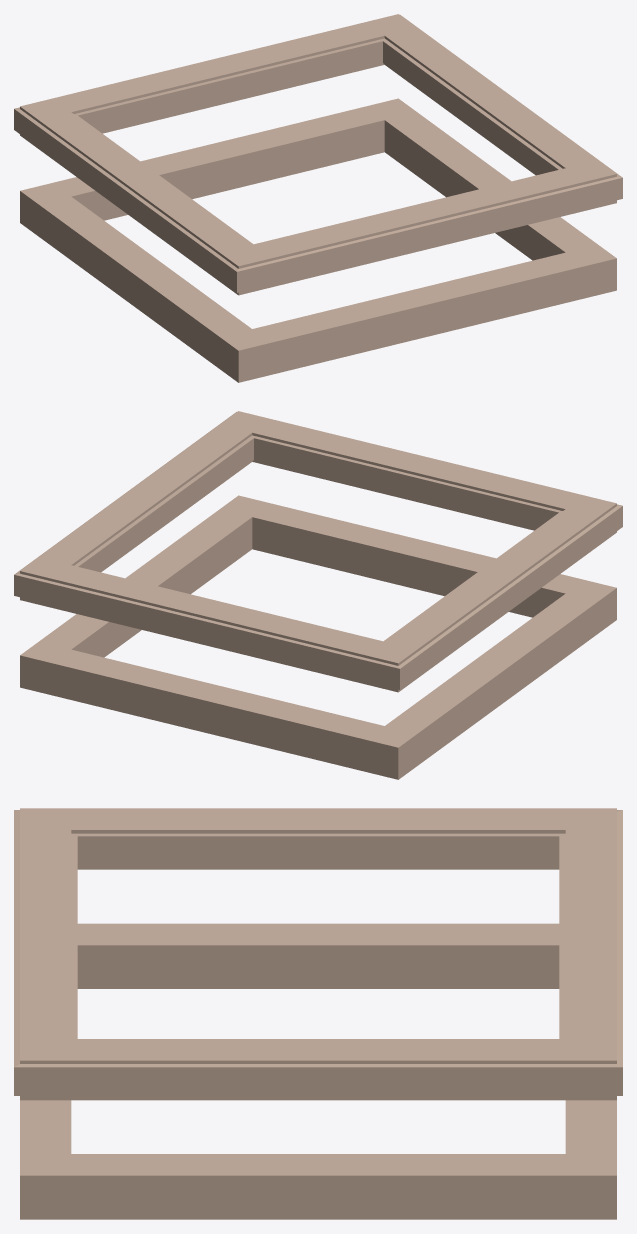
Rendered from TOWER_FLOOR2.fbx.
The picture shows the model from 3 angles, top to bottom: view 1: azimuth 30°, elevation 25°; view 2: azimuth 150°, elevation 25°; view 3: azimuth 270°, elevation 25°; orthographic projection. The views are drawn at different scales.
Parts seen in each view (by area): view 1: TOWER_FLOOR2; view 2: TOWER_FLOOR2; view 3: TOWER_FLOOR2.
Boxes of the visible parts, box(x1,y1,x2,y2) form: TOWER_FLOOR2: box(14, 14, 622, 382); TOWER_FLOOR2: box(14, 411, 622, 779); TOWER_FLOOR2: box(14, 808, 622, 1219).
Bounding box in the file's own units: 349 × 349 × 101.
